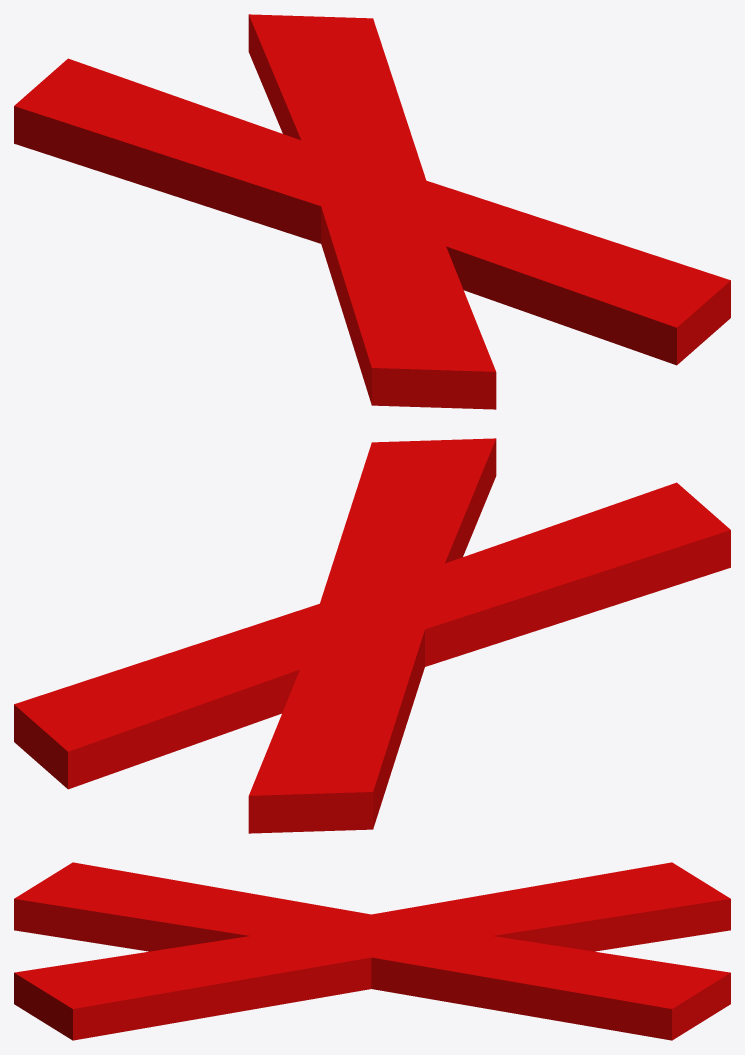
File: redXmodel1.fbx
3 views of the same model, one above another, from view 1: azimuth 30°, elevation 25°; view 2: azimuth 150°, elevation 25°; view 3: azimuth 270°, elevation 25° (orthographic). The views are drawn at different scales.
Visible parts, largest first — view 1: pCube2; view 2: pCube2; view 3: pCube2.
Boxes of the visible parts, bbox=[...] form: pCube2: bbox=[14, 14, 730, 409]; pCube2: bbox=[14, 438, 730, 833]; pCube2: bbox=[14, 862, 730, 1040].
Size of the model in its own units: 93.82 by 9.4 by 194.
